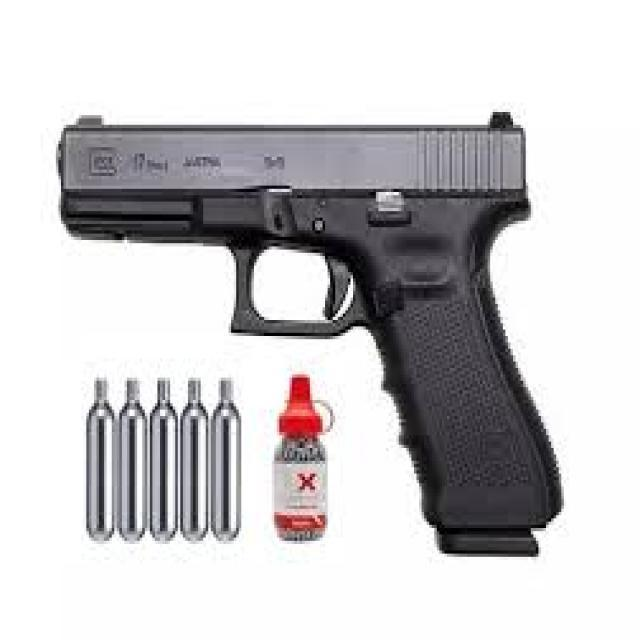semi automatic: (51, 90, 578, 592)
